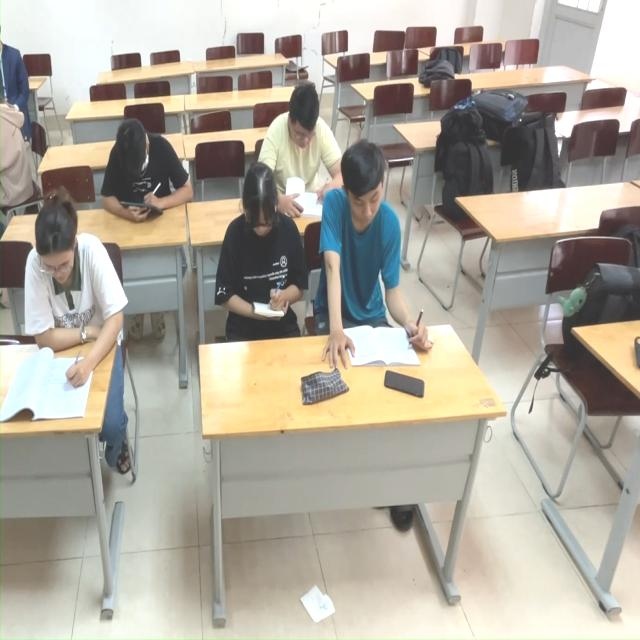read: (1, 194, 132, 433), (316, 138, 433, 385), (211, 161, 311, 339), (93, 111, 196, 229), (260, 82, 344, 199)
